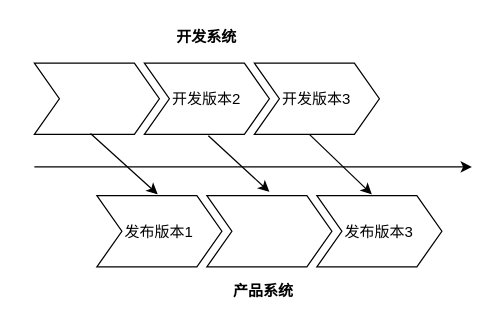
Image size: 504x325. Some labels were removed from this diagram. Each missing label, with the box of its shape:
发布版本2: (206, 194, 332, 267)
开发版本1: (33, 62, 159, 134)
